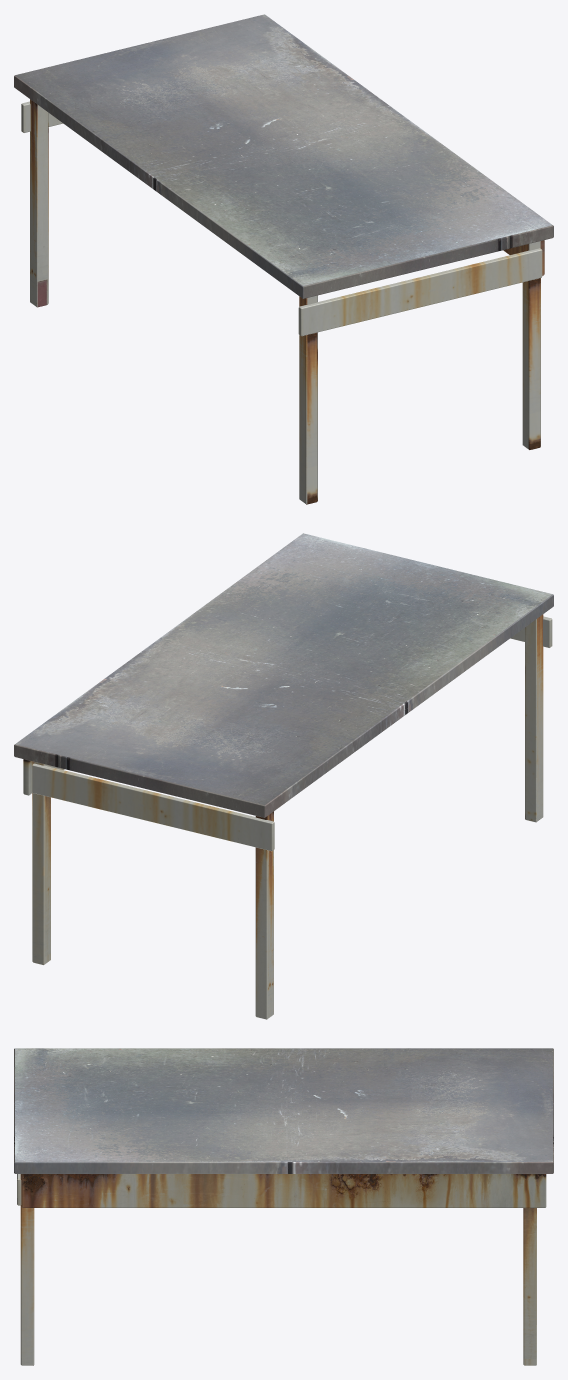
File: SM_TableDesk_01.fbx
The picture shows the model from 3 angles, top to bottom: view 1: azimuth 30°, elevation 25°; view 2: azimuth 150°, elevation 25°; view 3: azimuth 270°, elevation 25°; orthographic projection. The views are drawn at different scales.
Visible parts, largest first — view 1: SM_TableDesk_01; view 2: SM_TableDesk_01; view 3: SM_TableDesk_01.
Part boxes in pixels (box(x1,y1,x2,y2)): SM_TableDesk_01: box(14, 14, 553, 504); SM_TableDesk_01: box(14, 533, 553, 1019); SM_TableDesk_01: box(14, 1048, 553, 1365).
Bounding box in the file's own units: 129 × 109 × 256.
